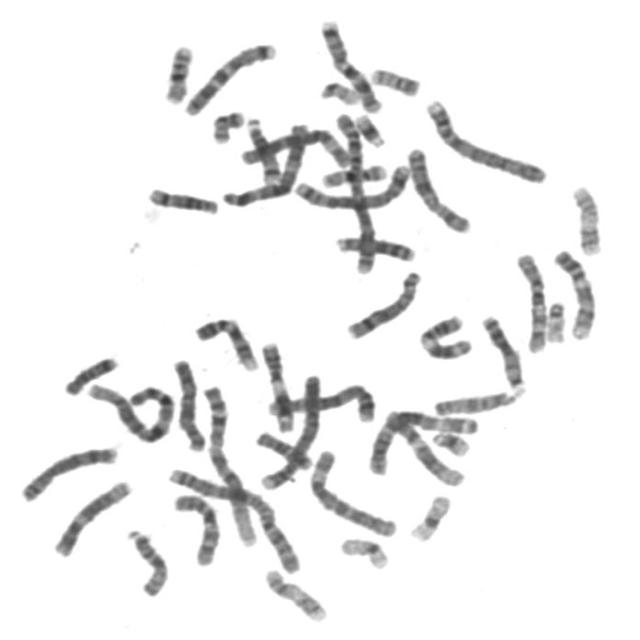A1: (199, 378, 262, 548), (83, 375, 181, 445)
A2: (164, 460, 306, 578), (329, 106, 382, 274)
A3: (216, 116, 314, 208), (368, 404, 479, 478)
B4: (420, 92, 552, 186), (256, 364, 329, 493)
B5: (289, 156, 417, 212), (262, 377, 379, 425)
C10: (169, 487, 226, 568), (512, 245, 553, 354)
C11: (256, 334, 298, 434), (414, 308, 478, 361)
C12: (49, 473, 137, 559), (382, 404, 470, 488)
C6: (304, 444, 402, 538), (234, 120, 356, 169)
C7: (180, 36, 282, 116), (316, 12, 388, 114)
C8: (15, 439, 124, 503), (342, 264, 426, 341)
C9: (549, 242, 601, 341), (190, 311, 264, 372)
D13: (477, 308, 531, 394), (332, 228, 421, 264)
D14: (241, 112, 285, 184), (143, 180, 224, 216)
D15: (122, 522, 173, 598), (430, 382, 528, 417)
E16: (158, 37, 198, 105), (316, 157, 392, 189)
E17: (260, 564, 332, 624), (568, 178, 609, 258)
E18: (251, 424, 318, 471), (60, 349, 124, 398)
F19: (406, 488, 456, 544), (336, 530, 394, 572)
F20: (365, 60, 426, 98), (207, 103, 249, 145)
G21: (351, 107, 391, 148), (428, 425, 474, 458)
G22: (315, 74, 364, 107), (542, 294, 570, 344)
X: (402, 140, 476, 235), (168, 352, 210, 453)
